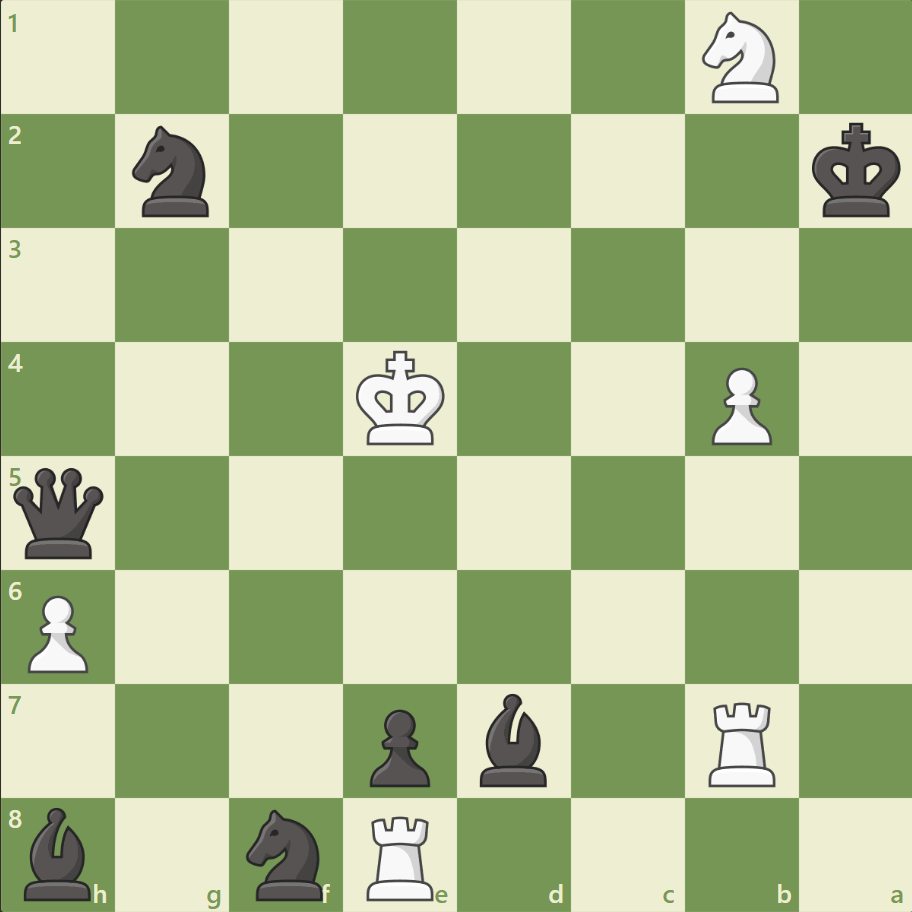K: (351, 344, 451, 452)
N: (692, 7, 789, 110)
P: (20, 586, 95, 677), (701, 359, 776, 450)
R: (700, 693, 783, 790), (360, 806, 442, 904)
b: (17, 801, 101, 904), (471, 687, 555, 790)
k: (806, 117, 906, 225)
n: (124, 121, 222, 223), (238, 802, 335, 904)
p: (361, 700, 435, 791)
q: (10, 463, 109, 562)
